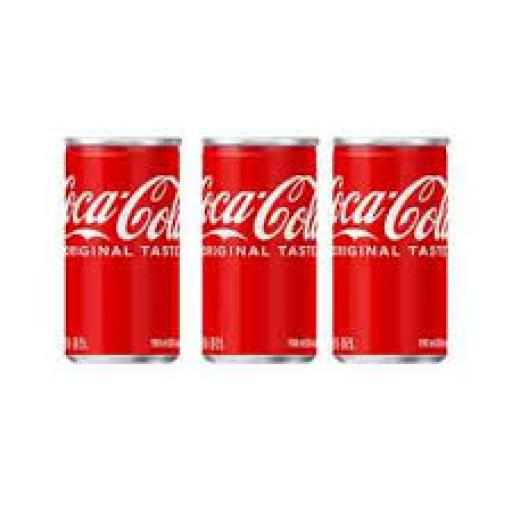Coca: (55, 126, 184, 370), (328, 124, 455, 370), (192, 125, 320, 369)
